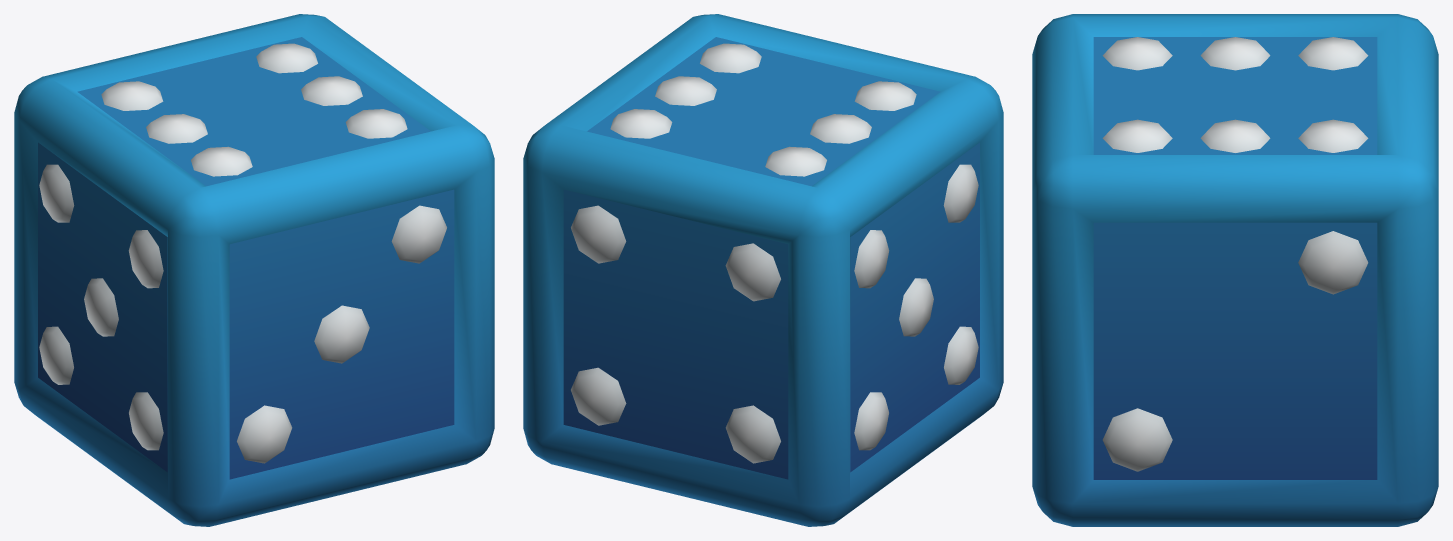
File: D6_B_blue.glb
3 views of the same model, side by side, from view 1: azimuth 30°, elevation 25°; view 2: azimuth 150°, elevation 25°; view 3: azimuth 270°, elevation 25° (orthographic). The views are drawn at different scales.
Visible parts, largest first — view 1: D6_B_blue; view 2: D6_B_blue; view 3: D6_B_blue.
Boxes of the visible parts, x1=… form: D6_B_blue: x1=14, y1=14, x2=494, y2=526; D6_B_blue: x1=523, y1=14, x2=1003, y2=526; D6_B_blue: x1=1032, y1=14, x2=1438, y2=526.
Size of the model in its own units: 0.75 by 0.75 by 0.75.
1 material, 1 textured.
